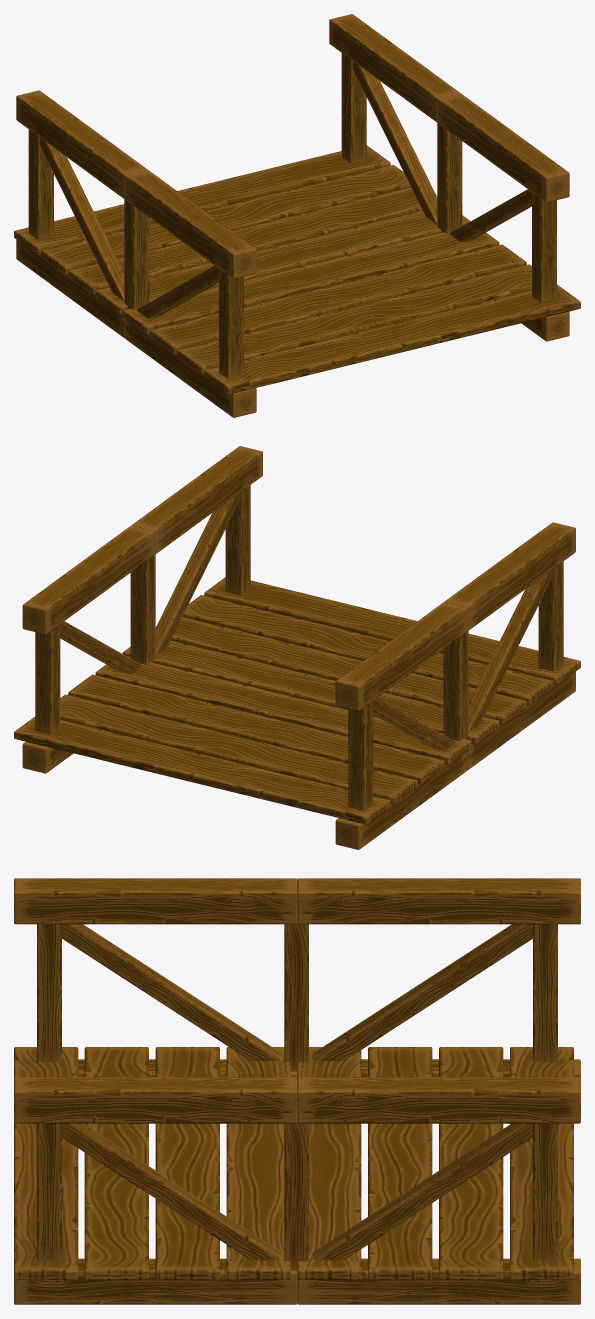
Rendered from Puente_Modul_03.fbx.
3 views of the same model, one above another, from view 1: azimuth 30°, elevation 25°; view 2: azimuth 150°, elevation 25°; view 3: azimuth 270°, elevation 25° (orthographic). The views are drawn at different scales.
Visible parts, largest first — view 1: P_M_madera_03_LOD0; view 2: P_M_madera_03_LOD0; view 3: P_M_madera_03_LOD0.
Part boxes in pixels (x1=…): P_M_madera_03_LOD0: x1=14, y1=14, x2=580, y2=417; P_M_madera_03_LOD0: x1=14, y1=446, x2=580, y2=849; P_M_madera_03_LOD0: x1=14, y1=878, x2=580, y2=1304.
Size of what is drawn, in the model's own units: 150 by 66.52 by 160.
